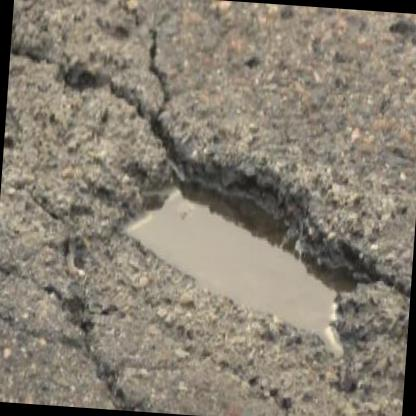pothole: (97, 141, 401, 370)
